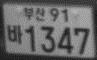1: (23, 25, 39, 52), (60, 8, 72, 23)
3: (40, 25, 56, 52)
4: (57, 26, 73, 53)
7: (73, 27, 90, 54)
9: (49, 7, 60, 22)
바: (7, 24, 23, 44)
부산_H: (24, 7, 45, 21)
